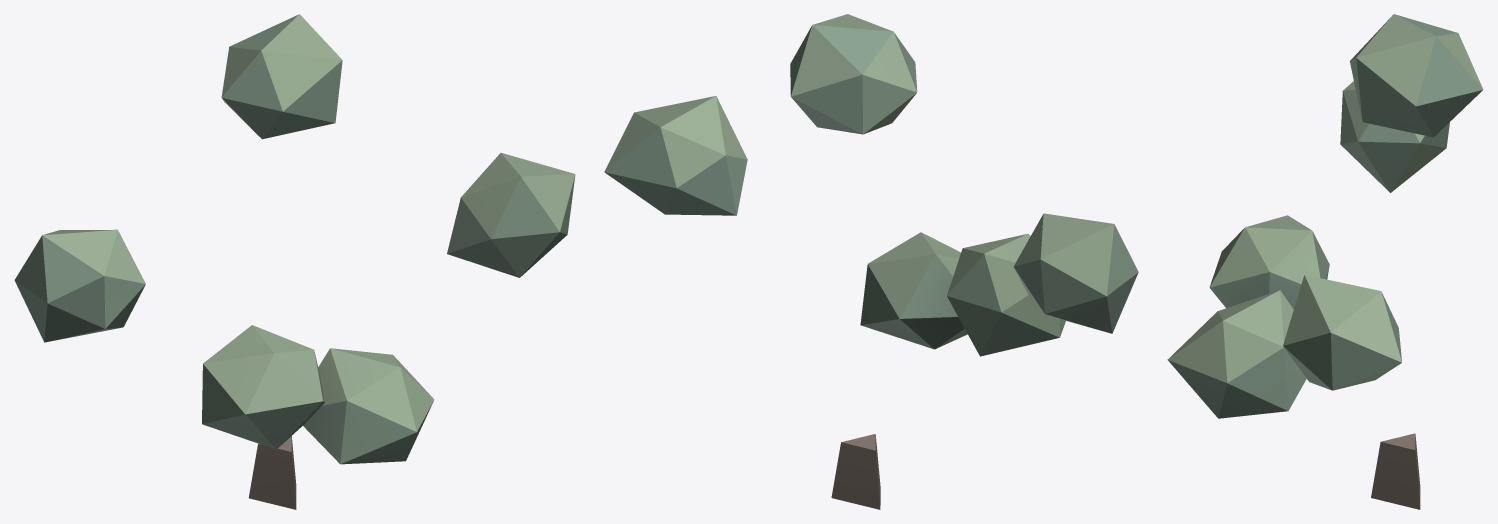
Rendered from creosote.lod2.glb.
3 renders of one model, left to right at view 1: azimuth 30°, elevation 25°; view 2: azimuth 150°, elevation 25°; view 3: azimuth 270°, elevation 25°, orthographic. The views are drawn at different scales.
Size of the model in its own units: 3.14 by 2.73 by 1.63.
